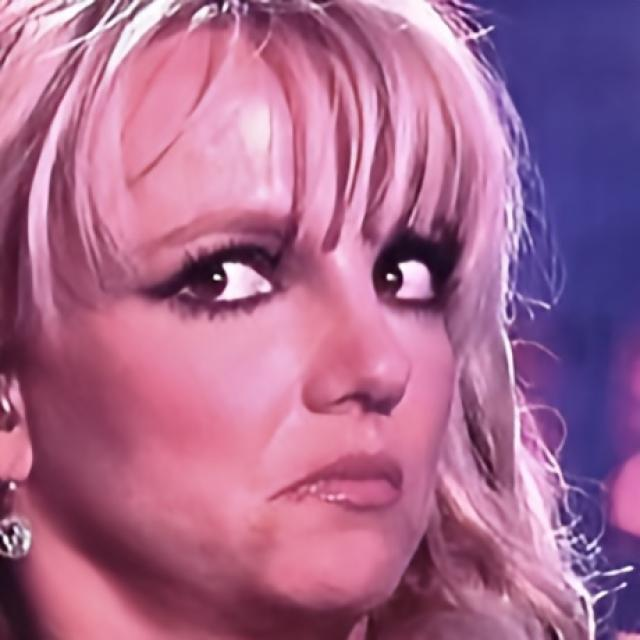anger: (66, 69, 460, 606)
